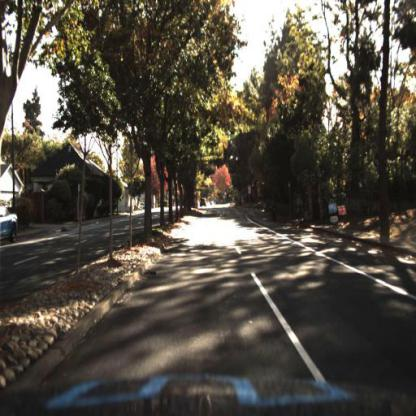car: (2, 202, 20, 246), (200, 194, 209, 210)
